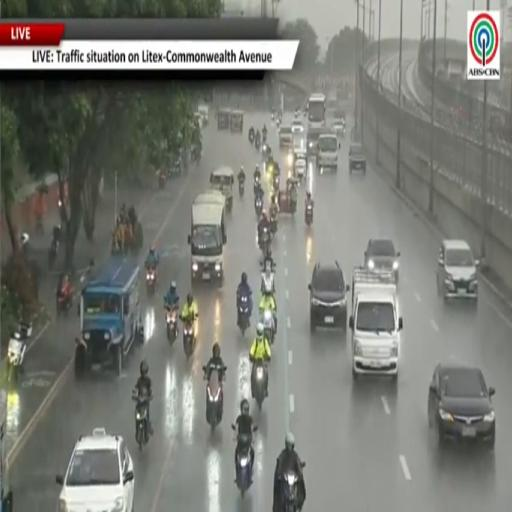bus: (307, 93, 326, 127)
car: (56, 428, 134, 511), (428, 363, 495, 447), (309, 262, 349, 331), (437, 239, 479, 299), (364, 239, 400, 282), (307, 126, 329, 155), (349, 142, 366, 173), (279, 125, 292, 148), (333, 118, 345, 136), (292, 119, 304, 134)
jeepney: (210, 167, 233, 211)
motorcycle: (6, 323, 32, 382), (203, 366, 226, 431), (236, 435, 253, 498), (133, 394, 150, 450), (252, 361, 267, 409), (283, 472, 299, 511), (48, 226, 61, 269), (237, 295, 250, 335), (183, 319, 196, 359), (166, 308, 178, 345), (262, 310, 275, 344), (56, 290, 72, 315), (261, 266, 275, 294), (259, 227, 270, 257), (48, 238, 58, 270), (146, 267, 156, 295), (254, 196, 263, 218), (270, 213, 277, 236), (305, 203, 312, 226), (262, 143, 270, 161), (254, 175, 260, 195), (248, 127, 255, 144), (159, 172, 166, 189), (289, 200, 296, 216), (273, 174, 279, 191), (239, 180, 244, 196), (255, 134, 260, 150), (262, 132, 267, 145), (294, 108, 300, 118), (340, 126, 345, 138), (276, 117, 281, 127), (271, 112, 275, 120)
truck: (75, 258, 143, 377), (349, 267, 402, 380), (188, 197, 226, 285), (0, 391, 17, 511)
